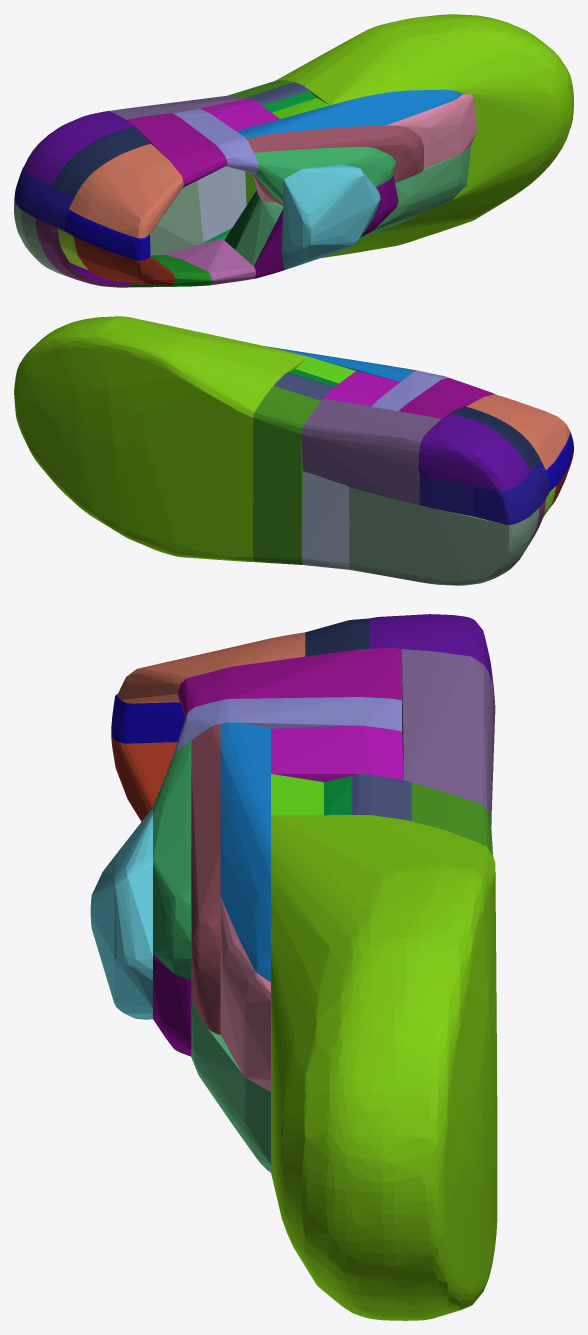
The model's file is coacd_collision.obj.
The picture shows the model from 3 angles, top to bottom: view 1: azimuth 30°, elevation 25°; view 2: azimuth 150°, elevation 25°; view 3: azimuth 270°, elevation 25°; orthographic projection. The views are drawn at different scales.
Visible parts, largest first — view 1: geometry_4, geometry_2, geometry_9, geometry_3, geometry_29, geometry_13, geometry_10, geometry_0, geometry_14, geometry_24, geometry_27, geometry_6 (+17 smaller); view 2: geometry_4, geometry_0, geometry_1, geometry_30, geometry_27, geometry_6, geometry_9, geometry_20, geometry_14, geometry_18, geometry_22, geometry_12 (+5 smaller); view 3: geometry_4, geometry_1, geometry_29, geometry_2, geometry_14, geometry_13, geometry_10, geometry_22, geometry_12, geometry_24, geometry_3, geometry_9 (+9 smaller).
Boxes of the visible parts, box(x1,y1,x2,y2) form: geometry_4: box(275, 14, 573, 257); geometry_2: box(281, 164, 380, 269); geometry_9: box(69, 143, 183, 238); geometry_3: box(235, 145, 471, 266); geometry_29: box(236, 89, 462, 138); geometry_13: box(246, 125, 423, 205); geometry_10: box(254, 147, 395, 202); geometry_0: box(14, 180, 203, 277); geometry_14: box(127, 113, 227, 187); geometry_24: box(253, 94, 476, 202); geometry_27: box(24, 111, 134, 186); geometry_6: box(197, 166, 246, 242); geometry_4: box(14, 316, 308, 562); geometry_0: box(349, 487, 538, 585); geometry_1: box(301, 398, 441, 504); geometry_30: box(253, 385, 320, 564); geometry_27: box(418, 413, 530, 491); geometry_6: box(301, 471, 350, 569); geometry_9: box(466, 394, 570, 469); geometry_20: box(473, 458, 549, 525); geometry_14: box(399, 378, 494, 418); geometry_18: box(419, 474, 473, 516); geometry_22: box(323, 371, 399, 406); geometry_12: box(371, 370, 448, 411); geometry_4: box(271, 815, 497, 1320); geometry_1: box(402, 649, 495, 819); geometry_29: box(220, 722, 270, 981); geometry_2: box(90, 807, 152, 1019); geometry_14: box(177, 648, 401, 718); geometry_13: box(191, 723, 220, 1034); geometry_10: box(153, 740, 191, 979); geometry_22: box(271, 725, 403, 781); geometry_12: box(173, 697, 401, 755); geometry_24: box(220, 897, 270, 1092); geometry_3: box(191, 1000, 270, 1172); geometry_9: box(117, 632, 305, 703).
Bounding box in the file's own units: 237 × 89.58 × 80.74.
